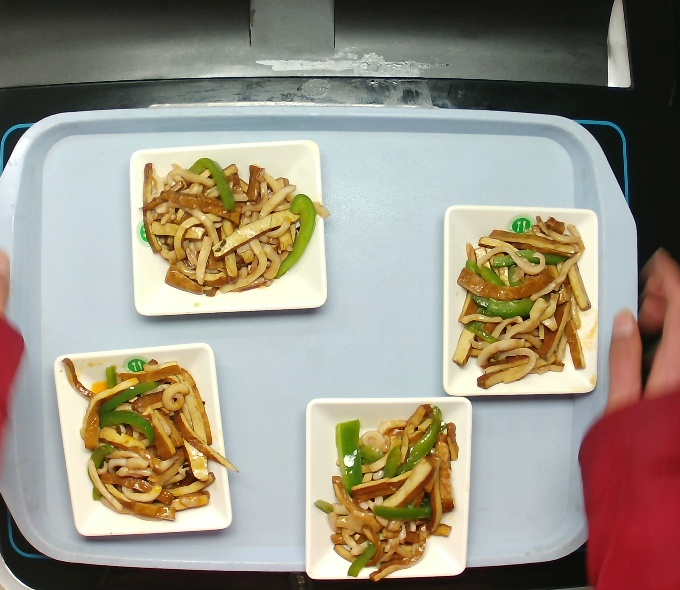wcq-XiangGanYouYu: (60, 356, 236, 525), (305, 405, 466, 579), (441, 216, 593, 391), (139, 148, 312, 300)
